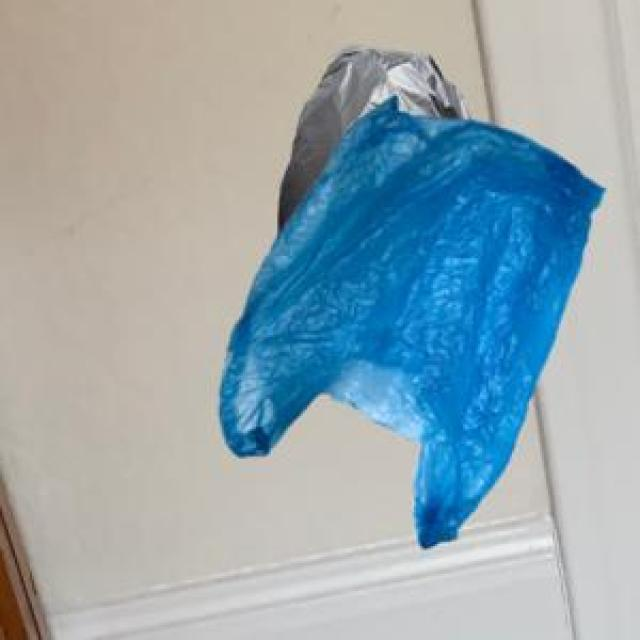miscellaneous trash: (276, 41, 465, 228)
